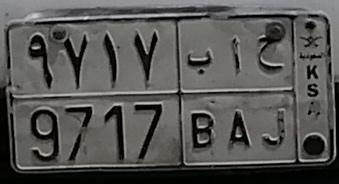1: (100, 29, 125, 162)
7: (132, 28, 164, 160), (63, 33, 94, 164)
9: (26, 30, 61, 162)
A: (228, 35, 253, 151)
B: (187, 48, 219, 151)
J: (257, 31, 287, 149)
